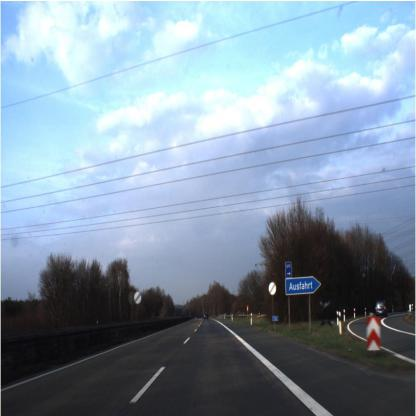other: (266, 275, 280, 302), (132, 289, 145, 311)
